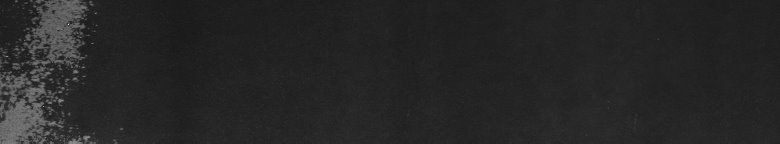kb: (4, 4, 64, 136)
